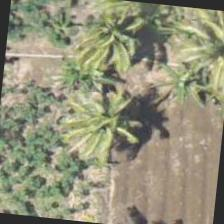Kelapa_Sawit: (51, 72, 150, 170), (65, 0, 164, 87), (173, 7, 223, 98)
